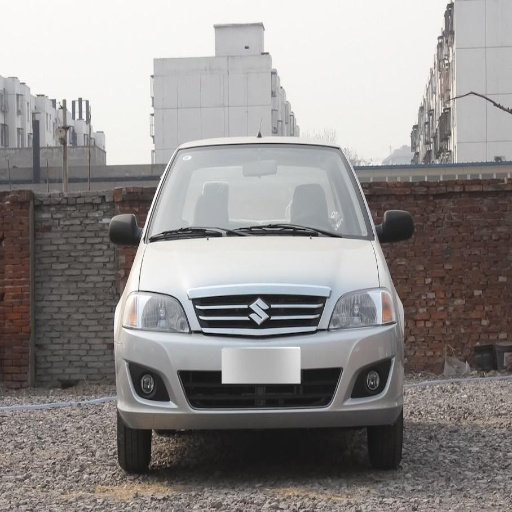front_bumper: (117, 294, 400, 425)
front_right_light: (120, 291, 186, 332)
hood: (140, 240, 379, 333)
